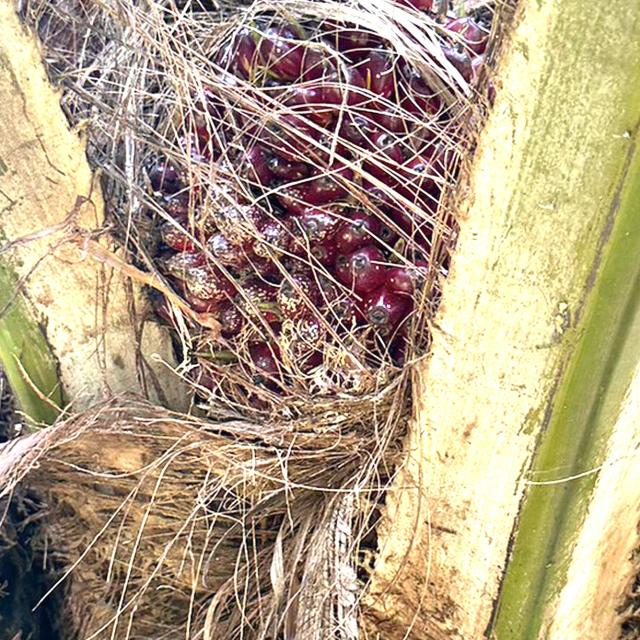ripe: (72, 0, 544, 448)
